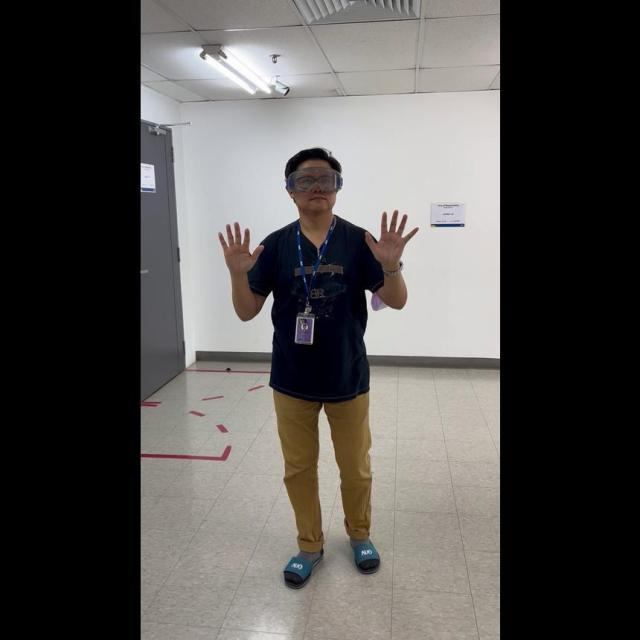bare_hand: (362, 205, 418, 269), (215, 217, 263, 274)
